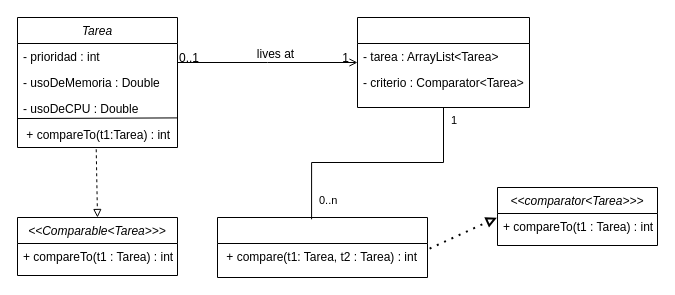
This 675x295 diagram has some shape labels left out. Here are the shapes that lost their labels. From the top down, the box of each, then its label:
(356, 16, 530, 108): Procesador
(216, 216, 428, 278): CriterioPrioridad
